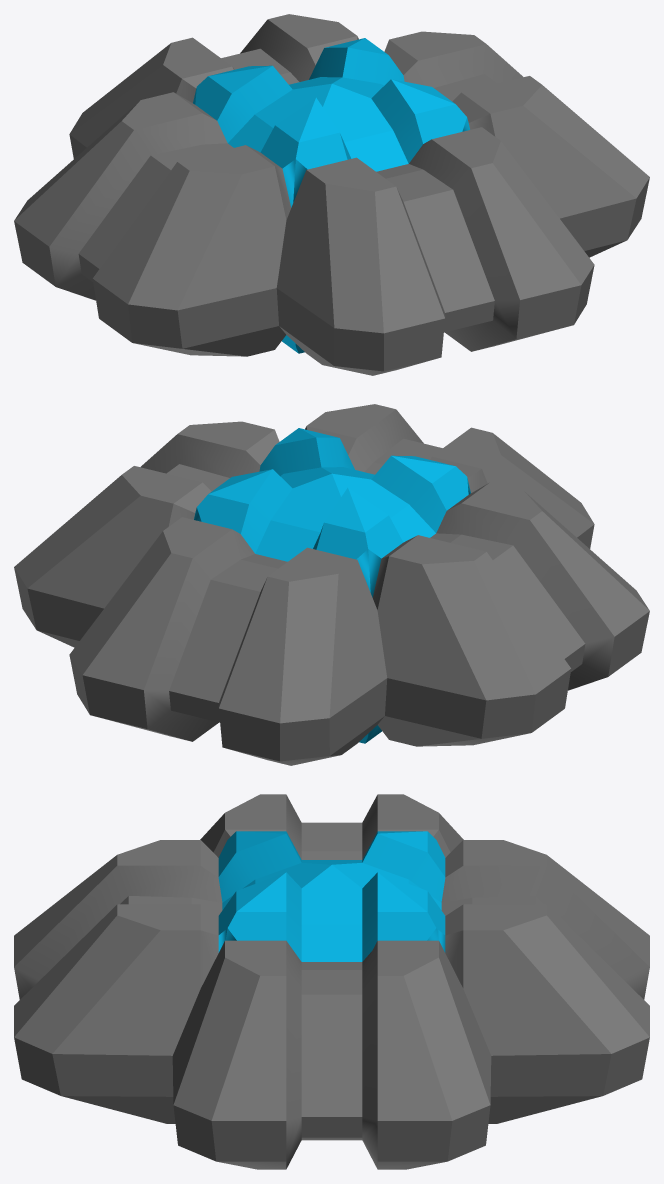
The model's file is _1Ship_PIece1.fbx.
3 views of the same model, one above another, from view 1: azimuth 30°, elevation 25°; view 2: azimuth 150°, elevation 25°; view 3: azimuth 270°, elevation 25° (orthographic). The views are drawn at different scales.
Parts seen in each view (by area): view 1: Ship_PIece1; view 2: Ship_PIece1; view 3: Ship_PIece1.
Boxes of the visible parts, x1,y1,x2,y2 form: Ship_PIece1: (14, 14, 649, 375); Ship_PIece1: (14, 404, 649, 765); Ship_PIece1: (14, 794, 649, 1169).
Size of the model in its own units: 372 by 170 by 372.
